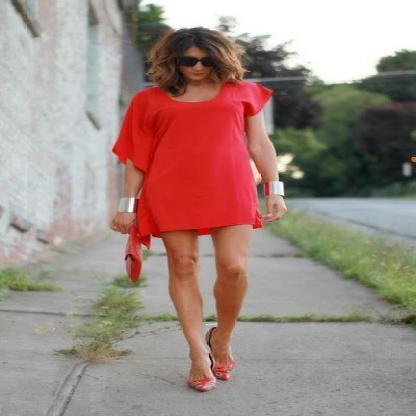bag: (125, 242, 150, 284)
dress: (112, 82, 272, 233)
shoe: (187, 373, 227, 392)
sunglass: (192, 48, 224, 70)
